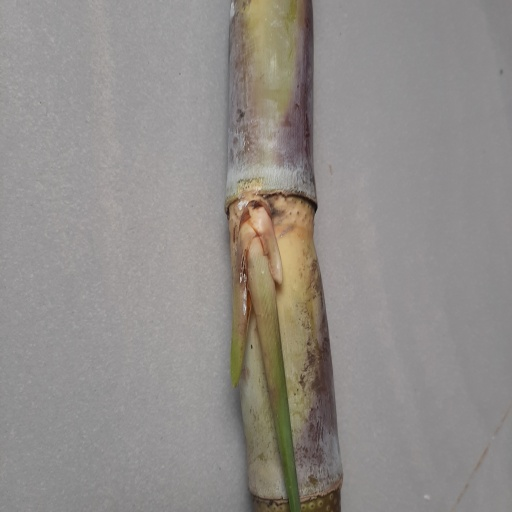Sprouted_Bud: (229, 198, 284, 295)
